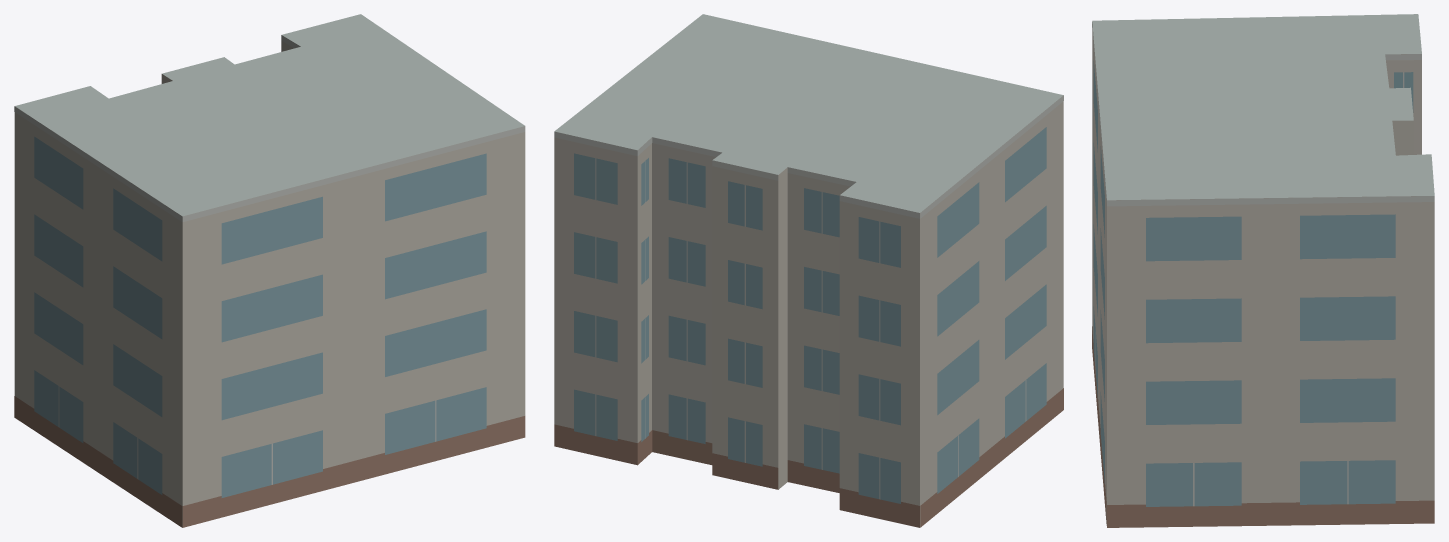
File: survey-upis-32458931.glb
The picture shows the model from 3 angles, left to right: view 1: azimuth 30°, elevation 25°; view 2: azimuth 150°, elevation 25°; view 3: azimuth 270°, elevation 25°; orthographic projection. The views are drawn at different scales.
Visible parts, largest first — view 1: survey-upis-32458931.tmp; view 2: survey-upis-32458931.tmp; view 3: survey-upis-32458931.tmp.
Part boxes in pixels (box(x1,y1,x2,y2)): survey-upis-32458931.tmp: box(14, 14, 525, 527); survey-upis-32458931.tmp: box(554, 14, 1063, 527); survey-upis-32458931.tmp: box(1092, 14, 1434, 527).
Size of the model in its own units: 15.8 by 12.95 by 12.28.
